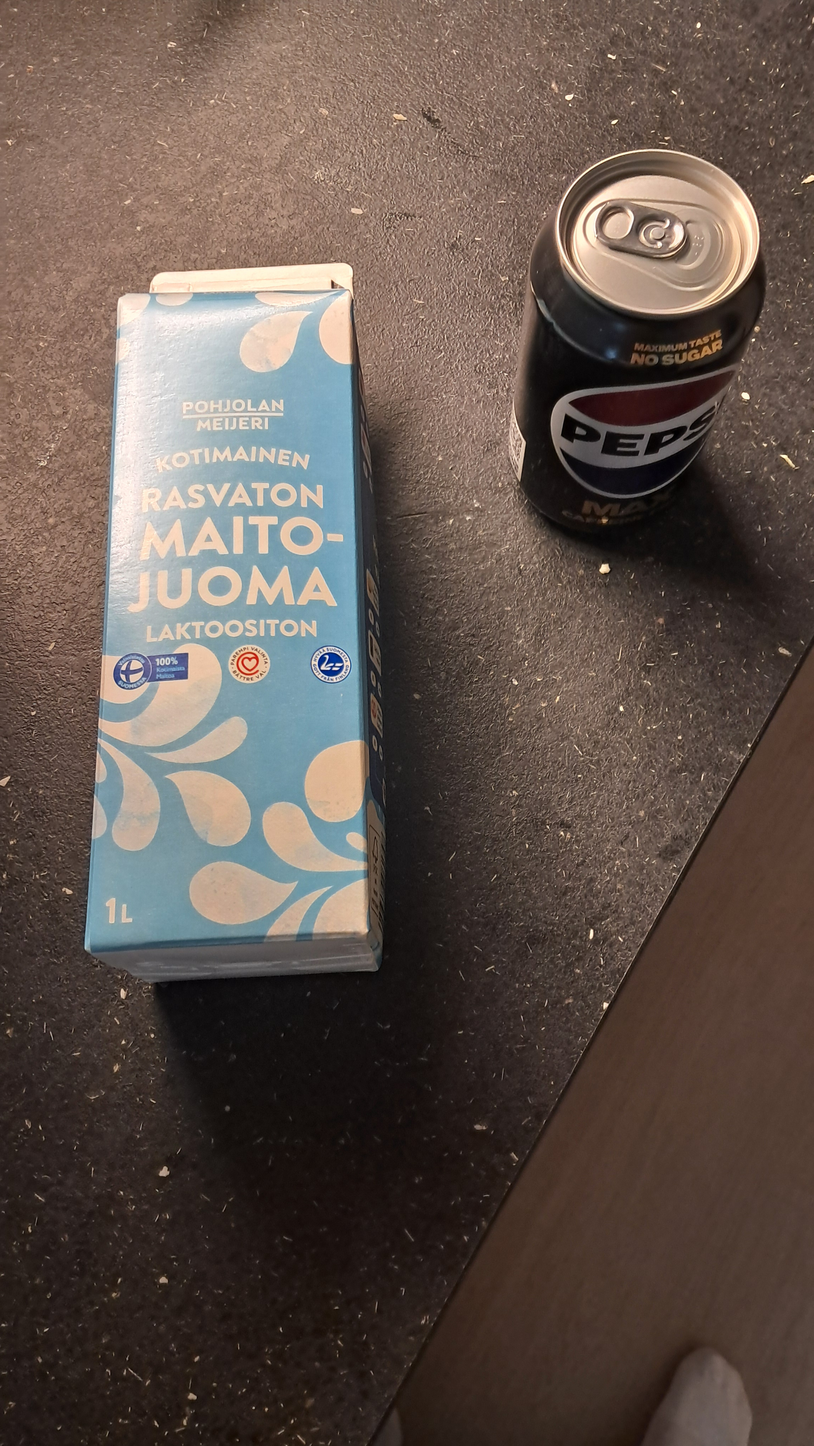Dryckeskartong: (80, 262, 394, 984)
Pantburk: (504, 121, 774, 554)
